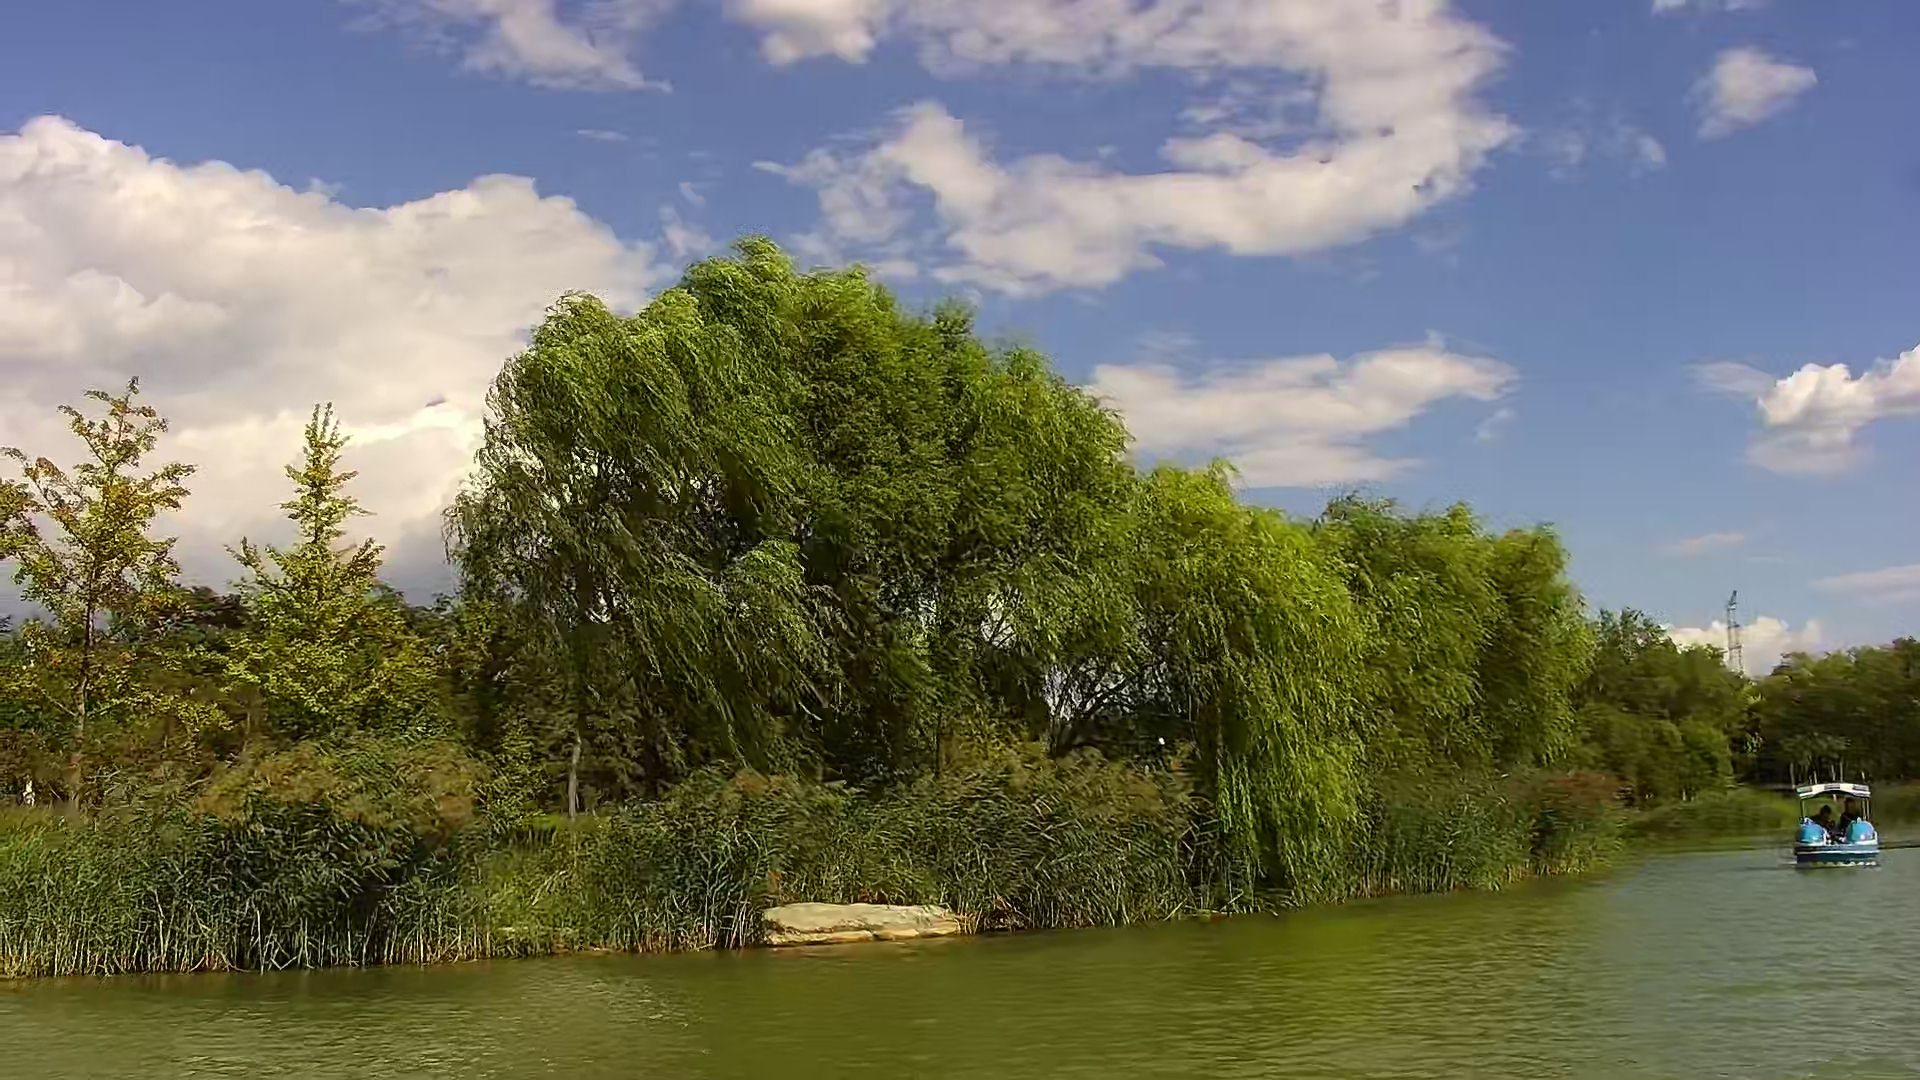boat: (1788, 781, 1887, 880)
rock: (758, 901, 968, 953)
